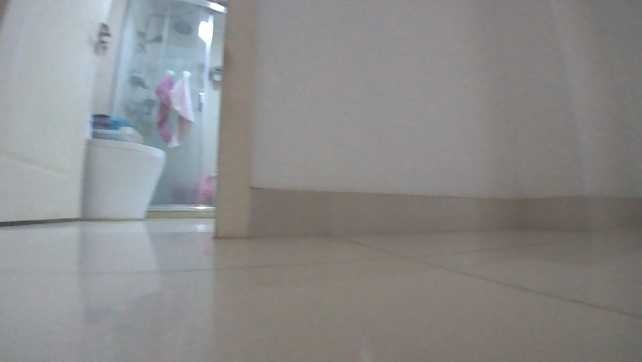door_anno: (0, 0, 113, 229)
toilet: (82, 132, 168, 224)
